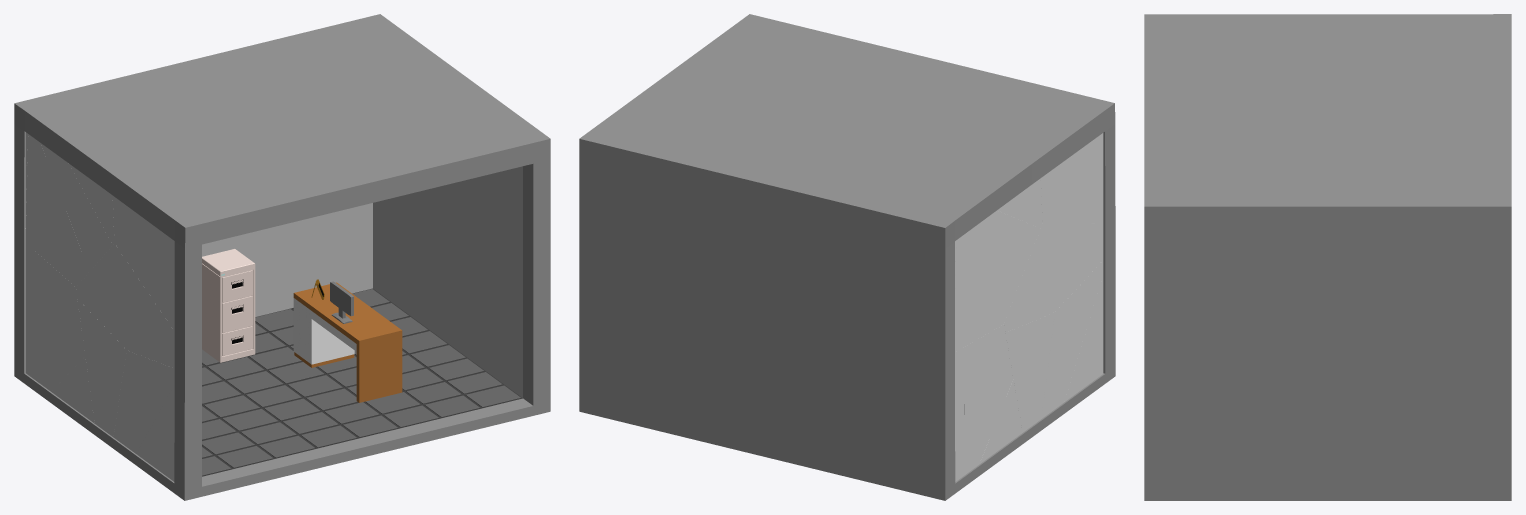
Rendered from FloorV02.fbx.
3 views of the same model, side by side, from view 1: azimuth 30°, elevation 25°; view 2: azimuth 150°, elevation 25°; view 3: azimuth 270°, elevation 25° (orthographic). The views are drawn at different scales.
Visible parts, largest first — view 1: Floor, Table, GlassFractures_cell.001_cell.001, Cabinet, GlassFractures_cell.005_cell, GlassFractures_cell.002_cell.001, GlassFractures_cell.004, GlassFractures_cell.001_cell.002, GlassFractures_cell.001_cell, GlassFractures_cell.005_cell.005, GlassFractures_cell, GlassFractures_cell.002_cell.002 (+3 smaller); view 2: Floor, GlassFractures_cell.001_cell.001, GlassFractures_cell.002_cell.001, GlassFractures_cell.005_cell, GlassFractures_cell.004, GlassFractures_cell.001_cell.002, GlassFractures_cell.001_cell, GlassFractures_cell.005_cell.005, GlassFractures_cell, GlassFractures_cell.002_cell, GlassFractures_cell.002_cell.002, GlassFractures_cell.005_cell.001; view 3: Floor.
Part boxes in pixels (x1,y1,x2,y2): Floor: [14, 14, 550, 500]; Table: [293, 282, 402, 402]; GlassFractures_cell.001_cell.001: [76, 243, 174, 368]; Cabinet: [202, 249, 255, 362]; GlassFractures_cell.005_cell: [25, 134, 88, 287]; GlassFractures_cell.002_cell.001: [36, 253, 85, 391]; GlassFractures_cell.004: [112, 196, 174, 331]; GlassFractures_cell.001_cell.002: [113, 350, 174, 453]; GlassFractures_cell.001_cell: [77, 299, 126, 436]; GlassFractures_cell.005_cell.005: [41, 143, 112, 271]; GlassFractures_cell: [136, 385, 174, 481]; GlassFractures_cell.002_cell.002: [25, 243, 36, 380]; Floor: [579, 14, 1115, 500]; GlassFractures_cell.001_cell.001: [1004, 223, 1103, 332]; GlassFractures_cell.002_cell.001: [964, 324, 1013, 474]; GlassFractures_cell.005_cell: [955, 231, 1017, 352]; GlassFractures_cell.004: [1040, 133, 1103, 223]; GlassFractures_cell.001_cell.002: [1041, 260, 1103, 418]; GlassFractures_cell.001_cell: [1005, 312, 1054, 432]; GlassFractures_cell.005_cell.005: [969, 210, 1040, 288]; GlassFractures_cell: [1064, 275, 1103, 401]; GlassFractures_cell.002_cell: [979, 379, 1022, 464]; GlassFractures_cell.002_cell.002: [955, 347, 964, 481]; GlassFractures_cell.005_cell.001: [997, 178, 1042, 228]; Floor: [1144, 14, 1511, 500].
Size of the model in its own units: 2106 by 1500 by 1698.
